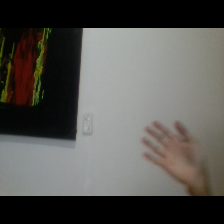left: (134, 117, 215, 189)
